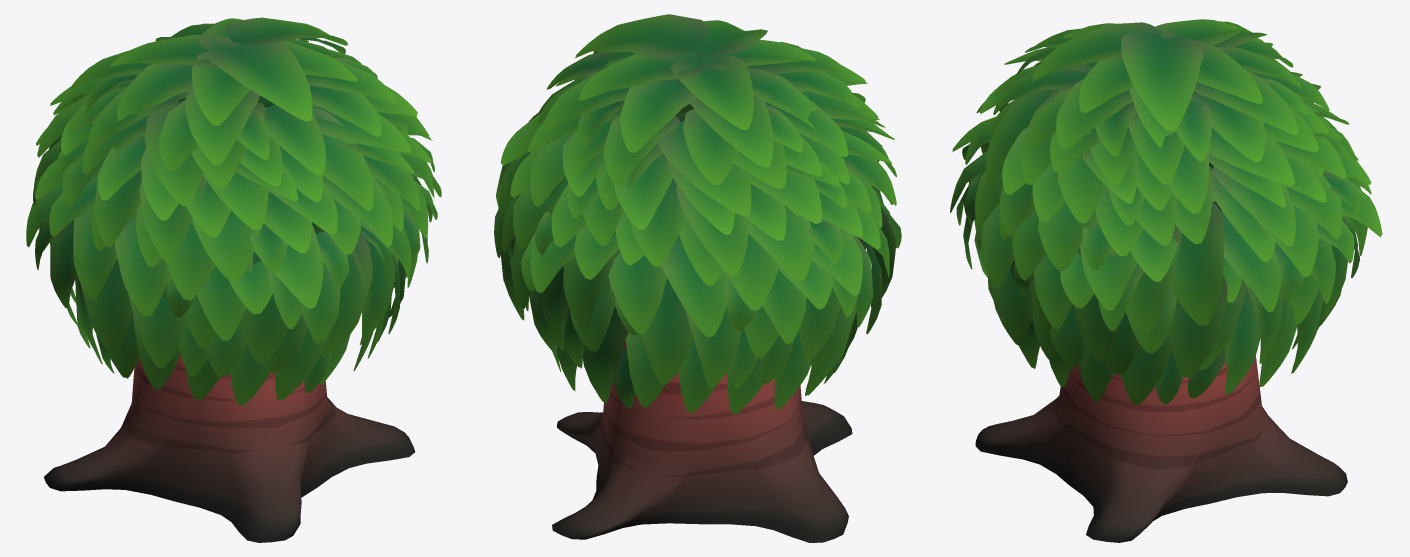
File: Tree_2c.fbx
The picture shows the model from 3 angles, left to right: view 1: azimuth 30°, elevation 25°; view 2: azimuth 150°, elevation 25°; view 3: azimuth 270°, elevation 25°; orthographic projection. The views are drawn at different scales.
Visible parts, largest first — view 1: Tree_2c; view 2: Tree_2c; view 3: Tree_2c.
Boxes of the visible parts, bbox=[...] form: Tree_2c: bbox=[26, 17, 441, 542]; Tree_2c: bbox=[494, 14, 901, 542]; Tree_2c: bbox=[950, 19, 1382, 542].
Size of the model in its own units: 44.96 by 47.97 by 45.06.
